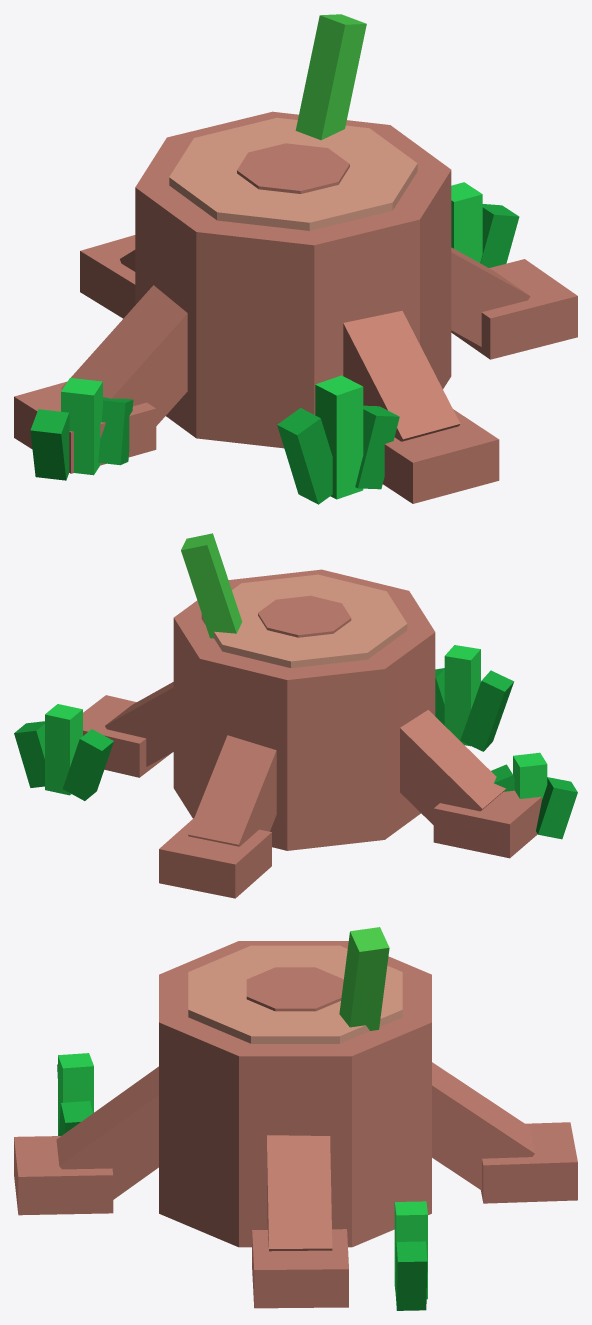
The model's file is Stump.fbx.
3 renders of one model, top to bottom at view 1: azimuth 30°, elevation 25°; view 2: azimuth 150°, elevation 25°; view 3: azimuth 270°, elevation 25°, orthographic. The views are drawn at different scales.
Parts seen in each view (by area): view 1: Wood.003, WoodLight.002, GrassDark.007, Grass.007, LeafGreen.004; view 2: Wood.003, WoodLight.002, GrassDark.007, Grass.007, LeafGreen.004; view 3: Wood.003, WoodLight.002, LeafGreen.004, Grass.007, GrassDark.007.
Boxes of the visible parts, <box> form: Wood.003: <box>14,111,577,503</box>; WoodLight.002: <box>169,117,417,230</box>; GrassDark.007: <box>30,204,519,504</box>; Grass.007: <box>61,182,482,499</box>; LeafGreen.004: <box>295,14,366,140</box>; Wood.003: <box>83,569,541,898</box>; WoodLight.002: <box>201,574,407,668</box>; GrassDark.007: <box>14,668,577,839</box>; Grass.007: <box>45,645,547,799</box>; LeafGreen.004: <box>181,533,242,638</box>; Wood.003: <box>14,941,577,1308</box>; WoodLight.002: <box>188,945,402,1043</box>; LeafGreen.004: <box>339,927,389,1030</box>; Grass.007: <box>58,1053,427,1299</box>; GrassDark.007: <box>57,1064,427,1310</box>.
Size of the model in its own units: 5.86 by 3.13 by 5.35.
